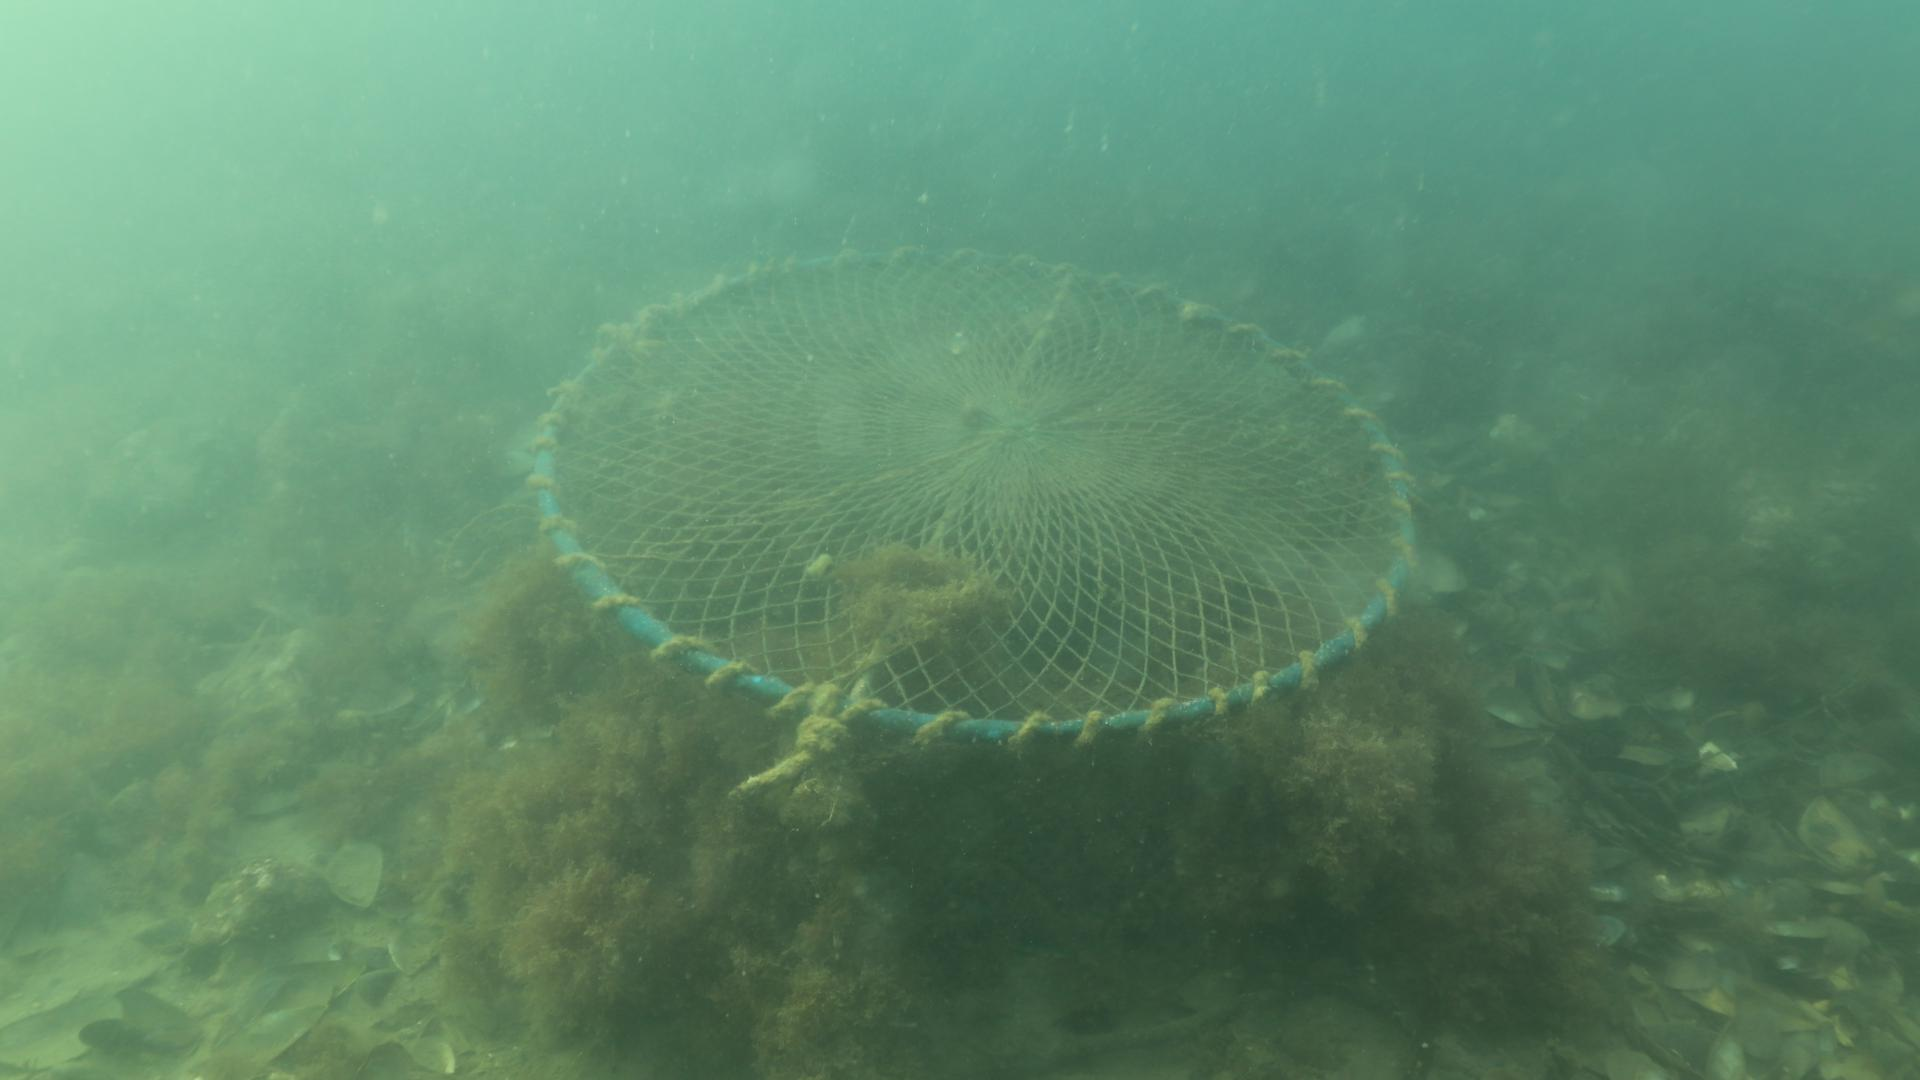circular fish trap: (529, 247, 1415, 927)
